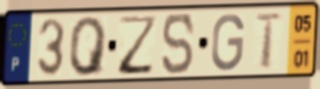3: (37, 17, 67, 80)
G: (209, 11, 247, 73)
Q: (68, 15, 109, 79)
S: (161, 11, 197, 77)
T: (253, 12, 285, 71)
Z: (118, 13, 159, 77)
